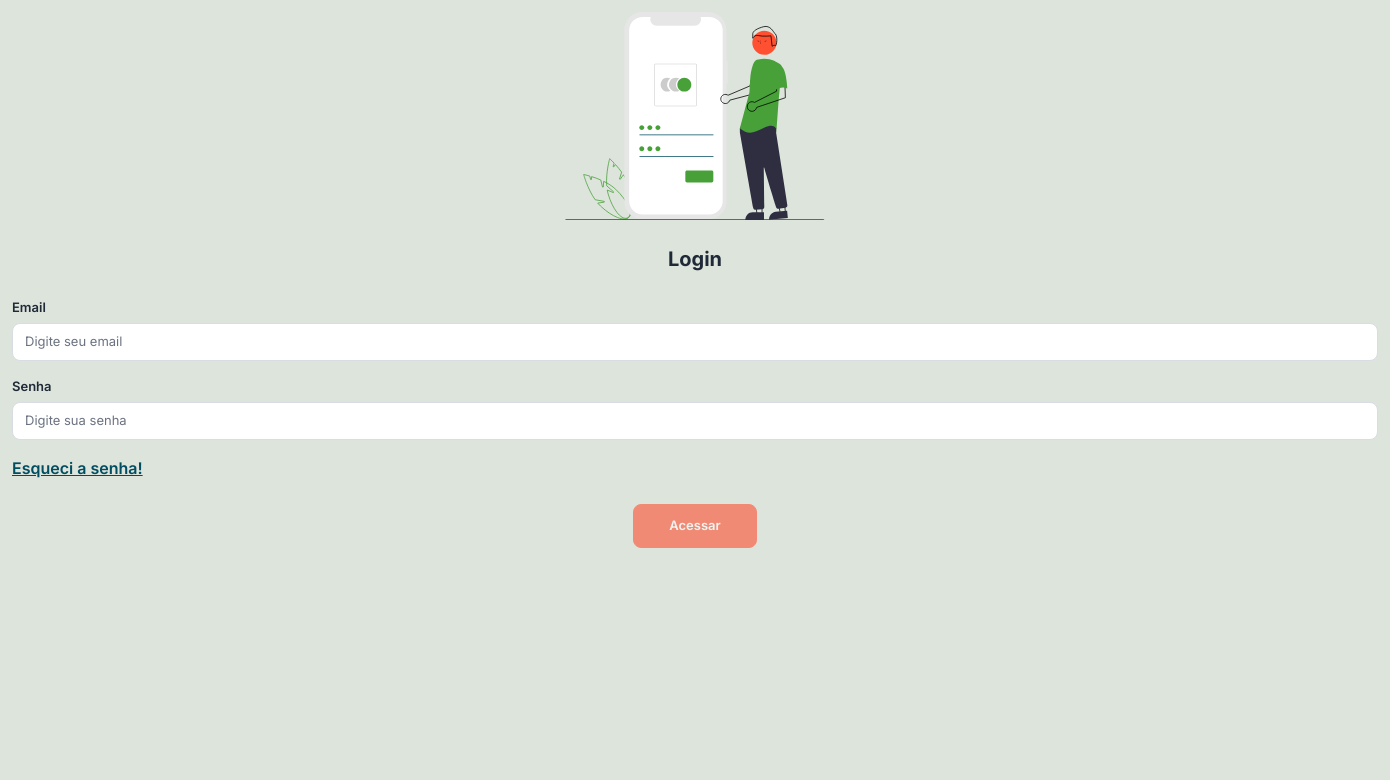
Test: LoginForm › mostra a mensagem devolvida pelo servidor e não navega
The image size is (1390, 780).
Type "user@mail.com" into the field labelled "Email" at (695, 342), box x1=12 y1=323 x2=1378 y2=361
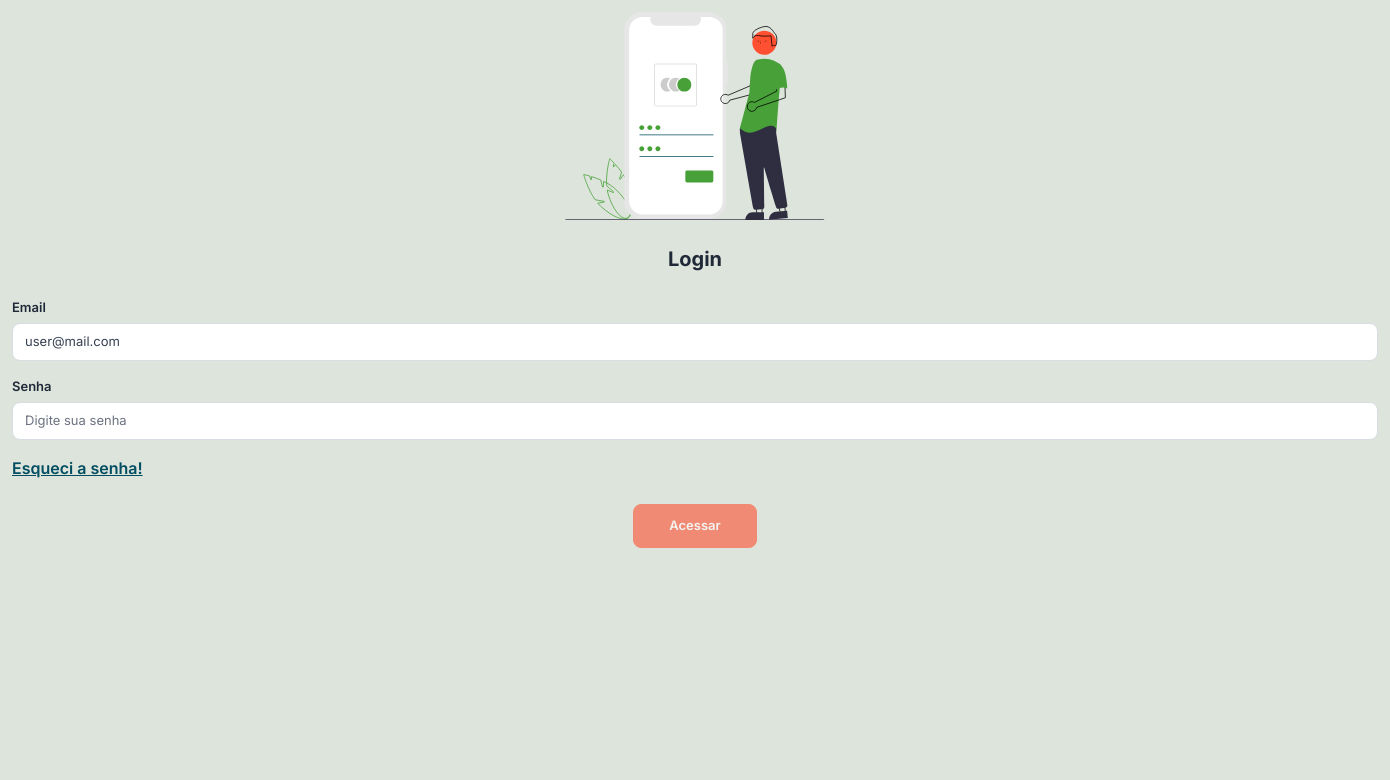
Type "12345678" into the password field labelled "Senha" at (695, 421), box x1=12 y1=402 x2=1378 y2=440
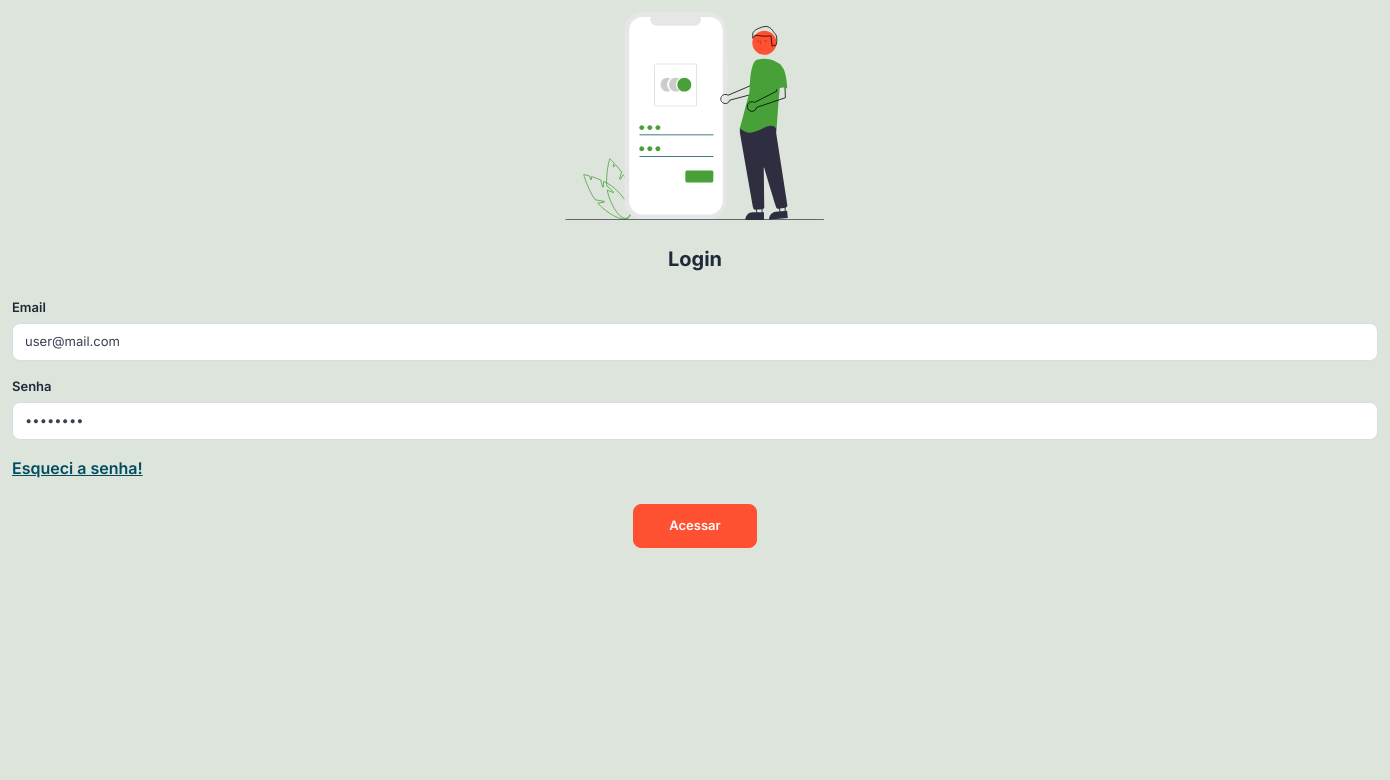
Click the button "Acessar" at (695, 526), box x1=633 y1=504 x2=757 y2=548
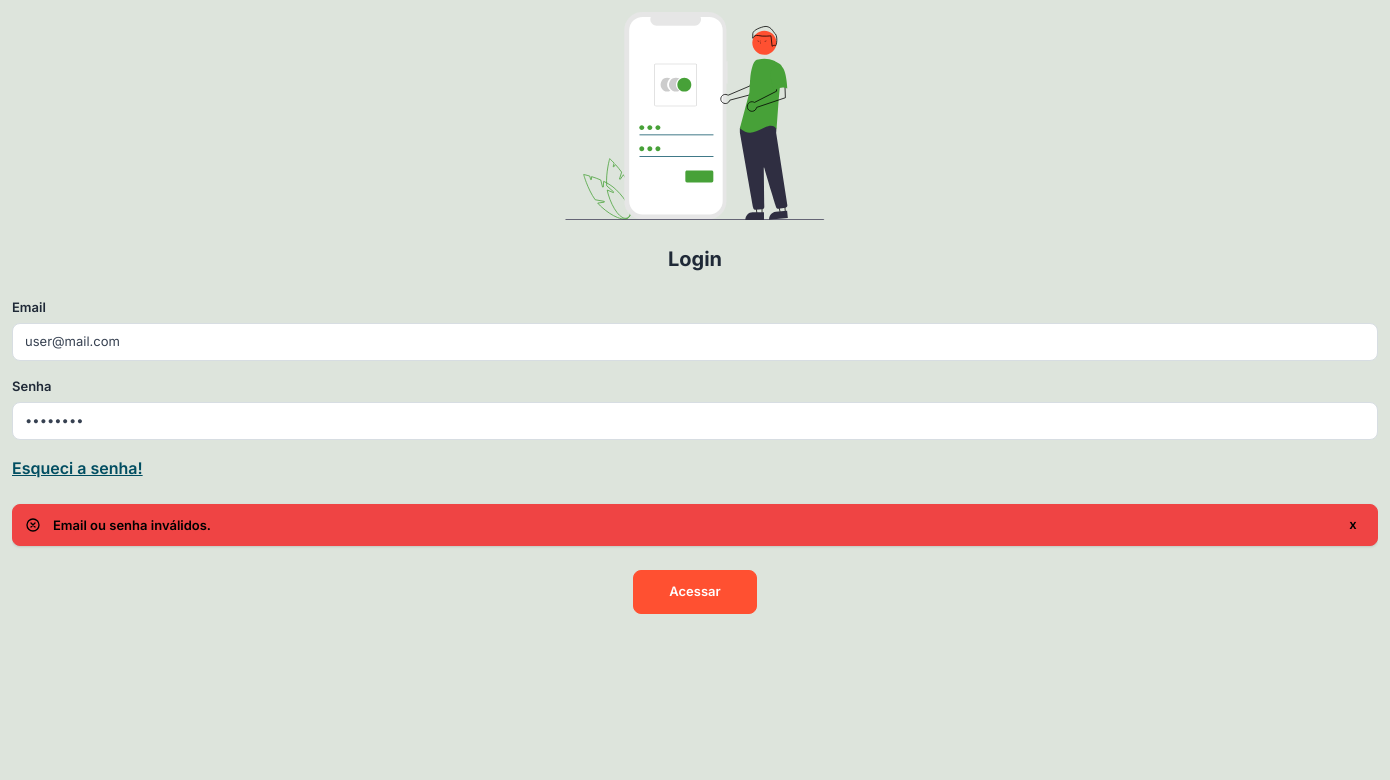
Check: the message shows "Email ou senha inválidos.", box x1=53 y1=517 x2=211 y2=533
